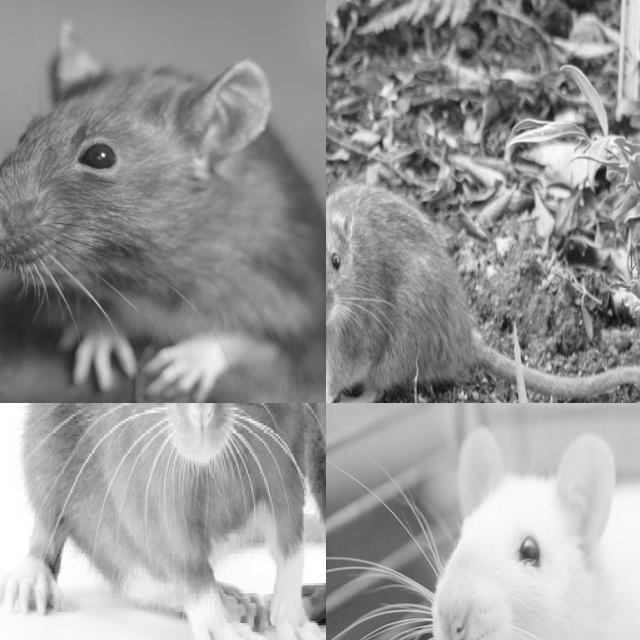rat: (0, 21, 326, 394), (0, 403, 304, 640), (444, 429, 640, 640), (326, 187, 469, 381)
